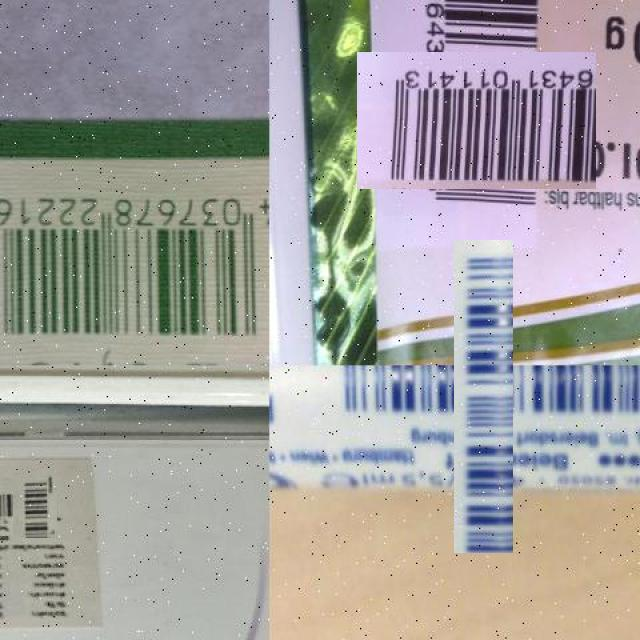Barcode: (0, 179, 270, 353), (382, 26, 571, 214), (390, 303, 577, 489), (6, 476, 64, 532)
